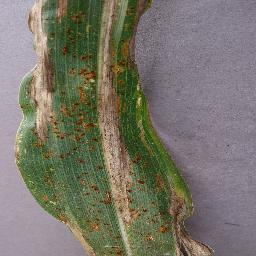Corn_Blight: (10, 1, 218, 256)
